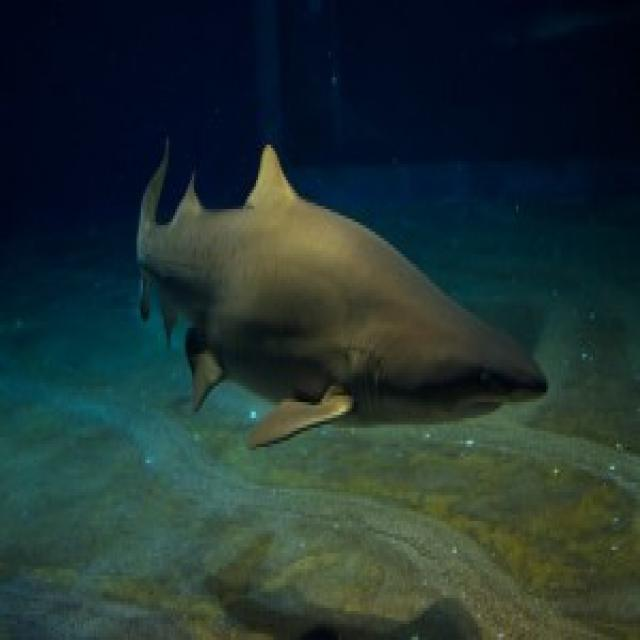Shark: (132, 137, 556, 453)
